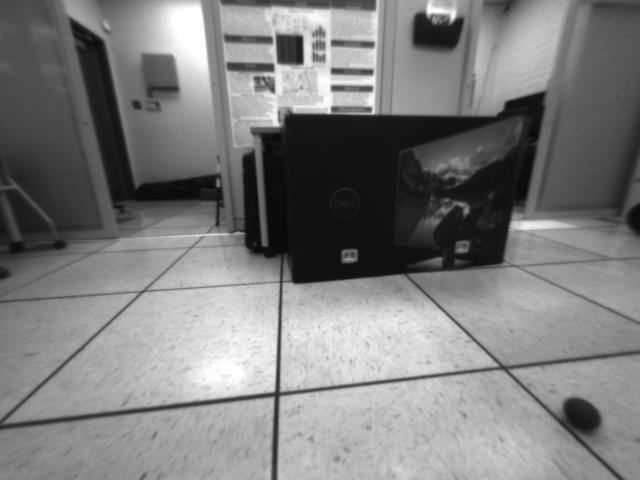dogtoy: (556, 389, 607, 439)
